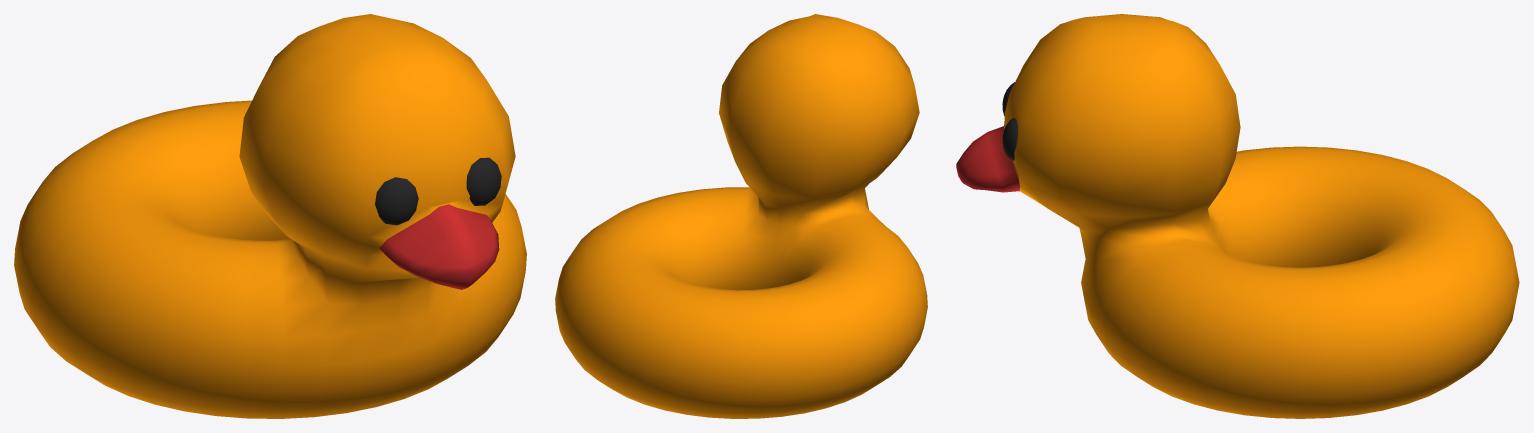
The model's file is FloatDuck.fbx.
3 views of the same model, side by side, from view 1: azimuth 30°, elevation 25°; view 2: azimuth 150°, elevation 25°; view 3: azimuth 270°, elevation 25° (orthographic). The views are drawn at different scales.
Parts seen in each view (by area): view 1: FloatDuck; view 2: FloatDuck; view 3: FloatDuck.
Boxes of the visible parts, bbox=[...] form: FloatDuck: bbox=[14, 14, 526, 418]; FloatDuck: bbox=[555, 14, 927, 418]; FloatDuck: bbox=[956, 14, 1519, 418].
Size of the model in its own units: 306 by 251 by 393.
Materials: 1 (1 with a texture image).
